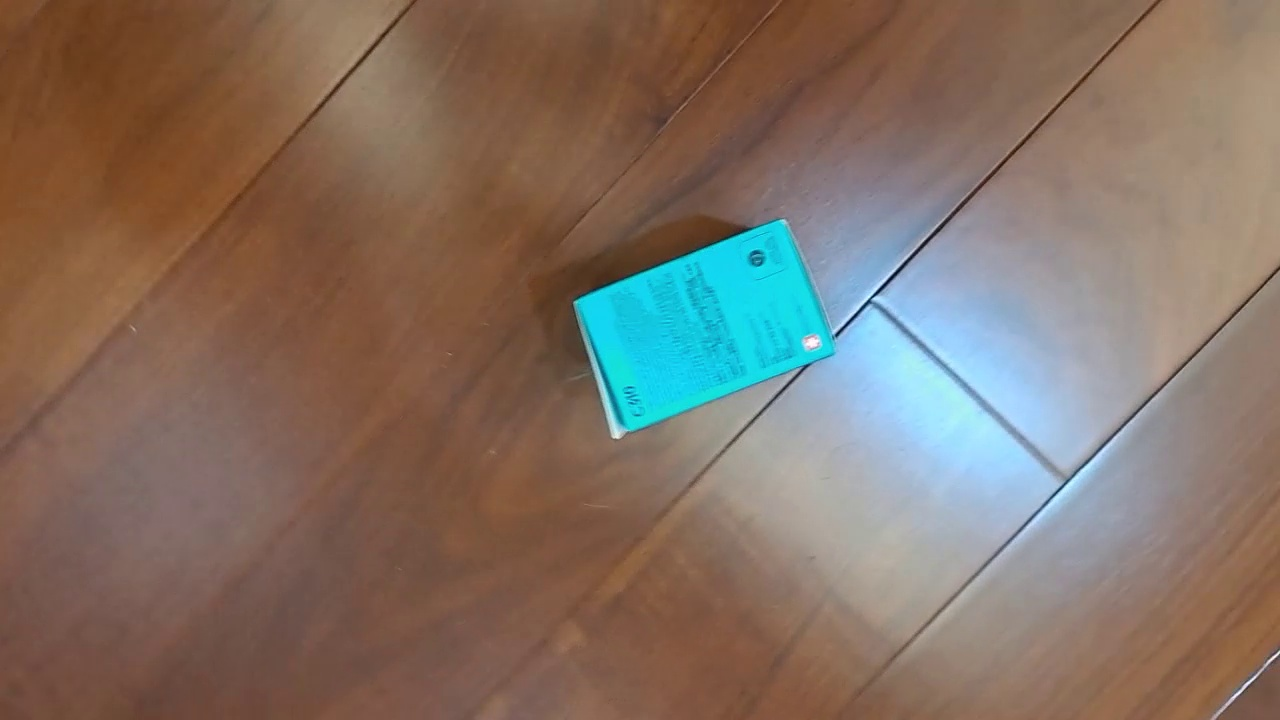webcam: (571, 218, 838, 441)
